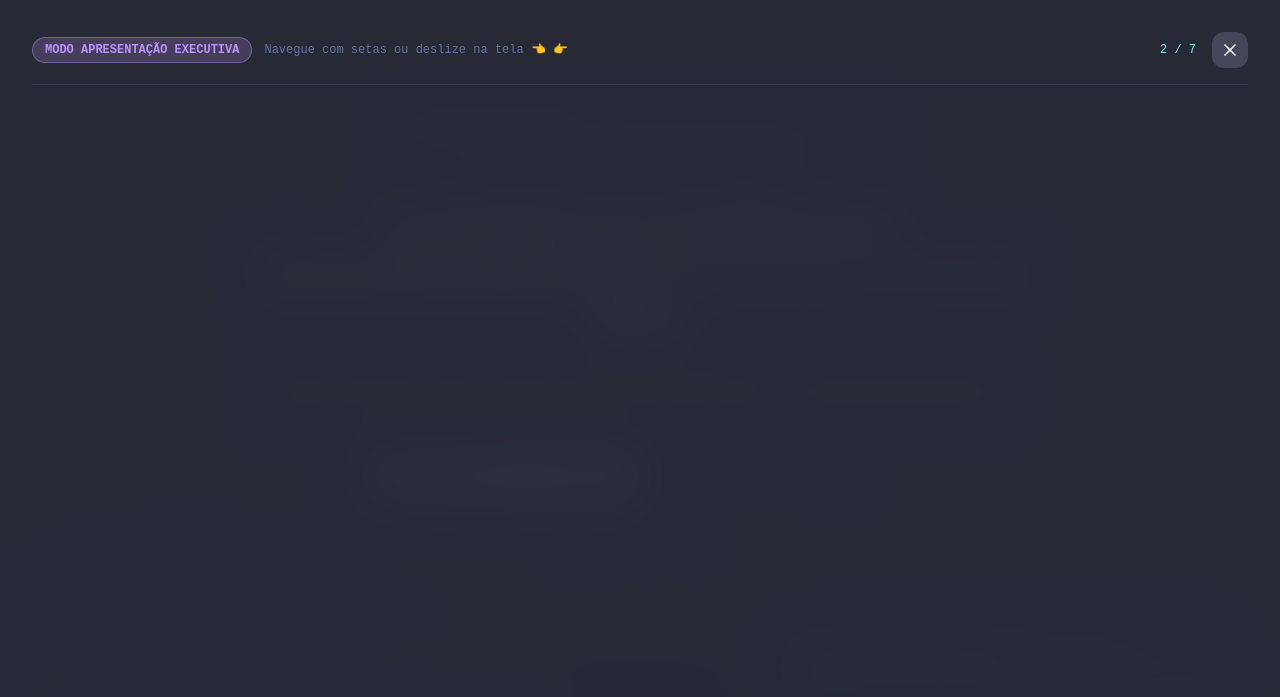
Test: LegalVerticalSection Component › opens and closes mobile presentation modal
Earlier steps of the test are not shown.
Click the button named "Fechar apresentação" at (1230, 50), box left=1212, top=32, right=1248, bottom=68
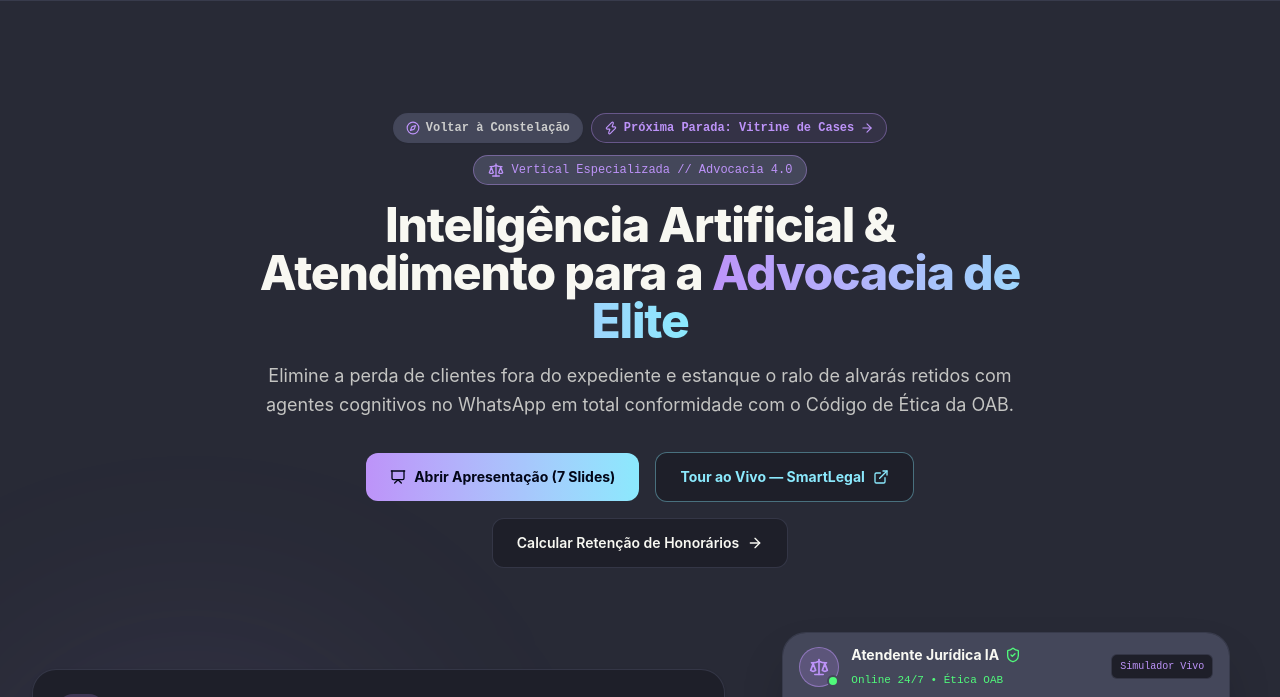
Expected: the text "MODO APRESENTAÇÃO EXECUTIVA" is gone
